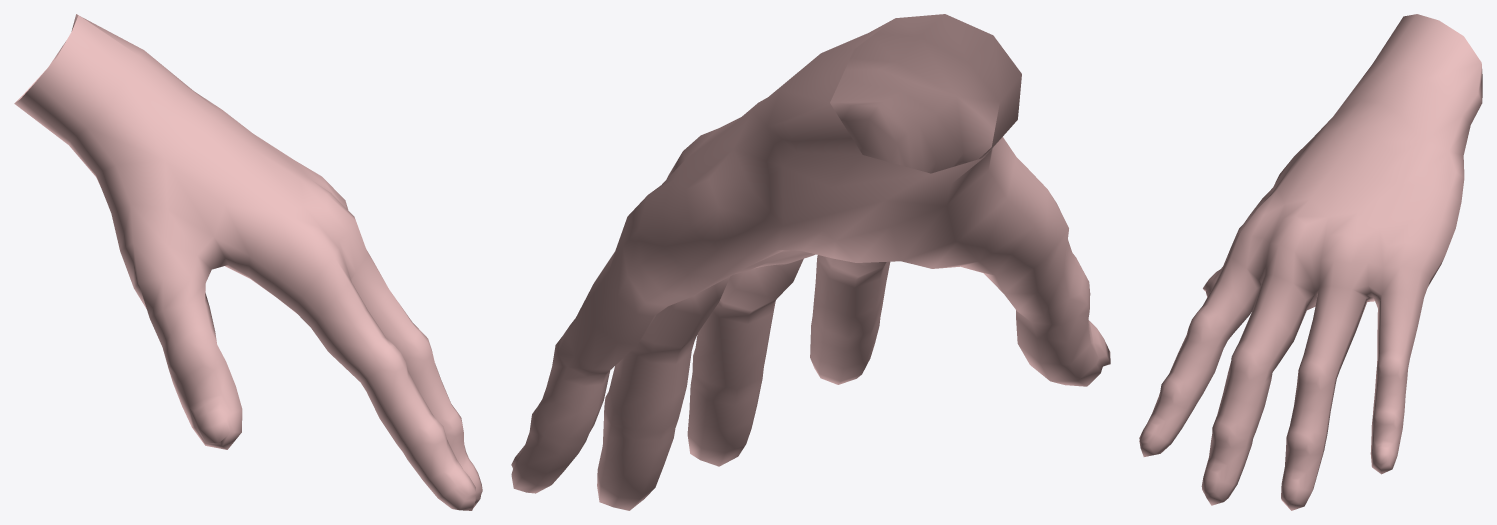
The model's file is Superhero_Female_A_Hand01.fbx.
The picture shows the model from 3 angles, left to right: view 1: azimuth 30°, elevation 25°; view 2: azimuth 150°, elevation 25°; view 3: azimuth 270°, elevation 25°; orthographic projection. The views are drawn at different scales.
Parts seen in each view (by area): view 1: Superhero_Female_A_Hand01; view 2: Superhero_Female_A_Hand01; view 3: Superhero_Female_A_Hand01.
Part boxes in pixels (box(x1,y1,x2,y2)): Superhero_Female_A_Hand01: box(14, 14, 482, 510); Superhero_Female_A_Hand01: box(511, 14, 1110, 510); Superhero_Female_A_Hand01: box(1139, 14, 1482, 510).
Size of the model in its own units: 0.825 by 1.01 by 0.8227.
